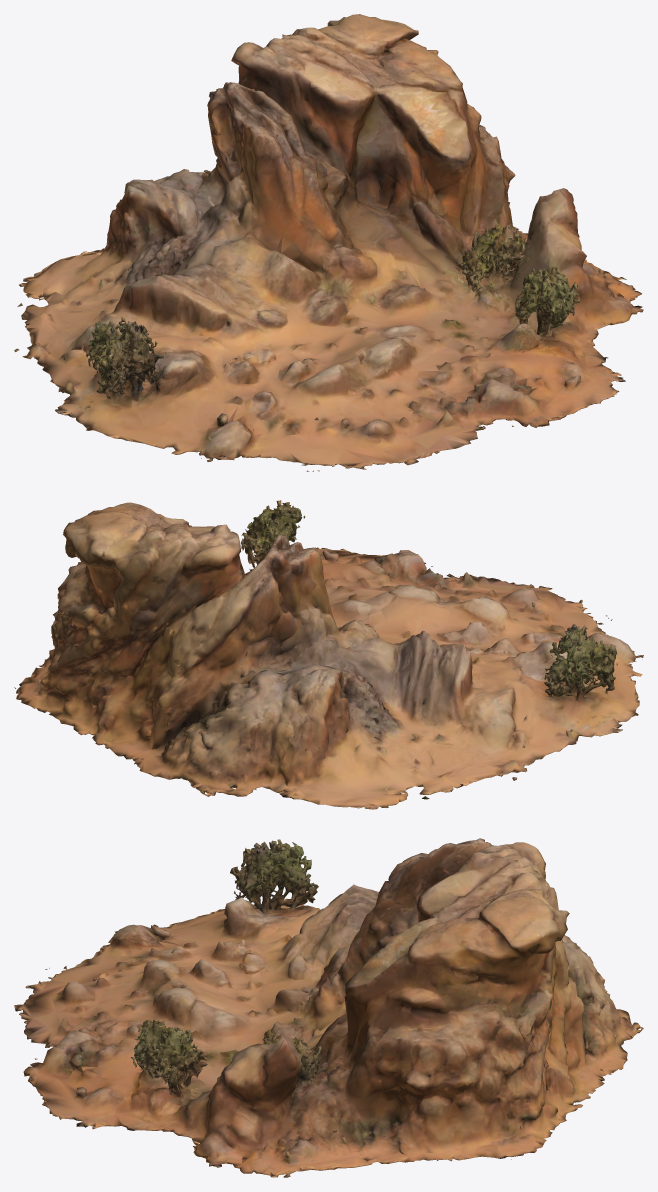
The model's file is Desert_Rock_Formation.glb.
The picture shows the model from 3 angles, top to bottom: view 1: azimuth 30°, elevation 25°; view 2: azimuth 150°, elevation 25°; view 3: azimuth 270°, elevation 25°; orthographic projection. The views are drawn at different scales.
Visible parts, largest first — view 1: Desert_Rock_Formation; view 2: Desert_Rock_Formation; view 3: Desert_Rock_Formation.
Part boxes in pixels (<box>): Desert_Rock_Formation: <box>14,14,643,471</box>; Desert_Rock_Formation: <box>14,500,643,809</box>; Desert_Rock_Formation: <box>14,838,643,1177</box>.
Size of the model in its own units: 1.9 by 0.6778 by 1.84.
1 material, 1 textured.
